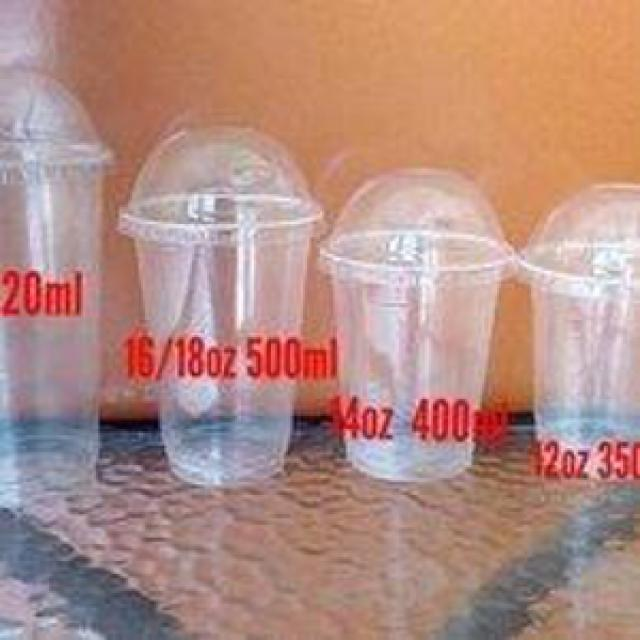plastic cup: (115, 111, 335, 493), (314, 162, 516, 489), (2, 62, 124, 505), (512, 175, 640, 484)
